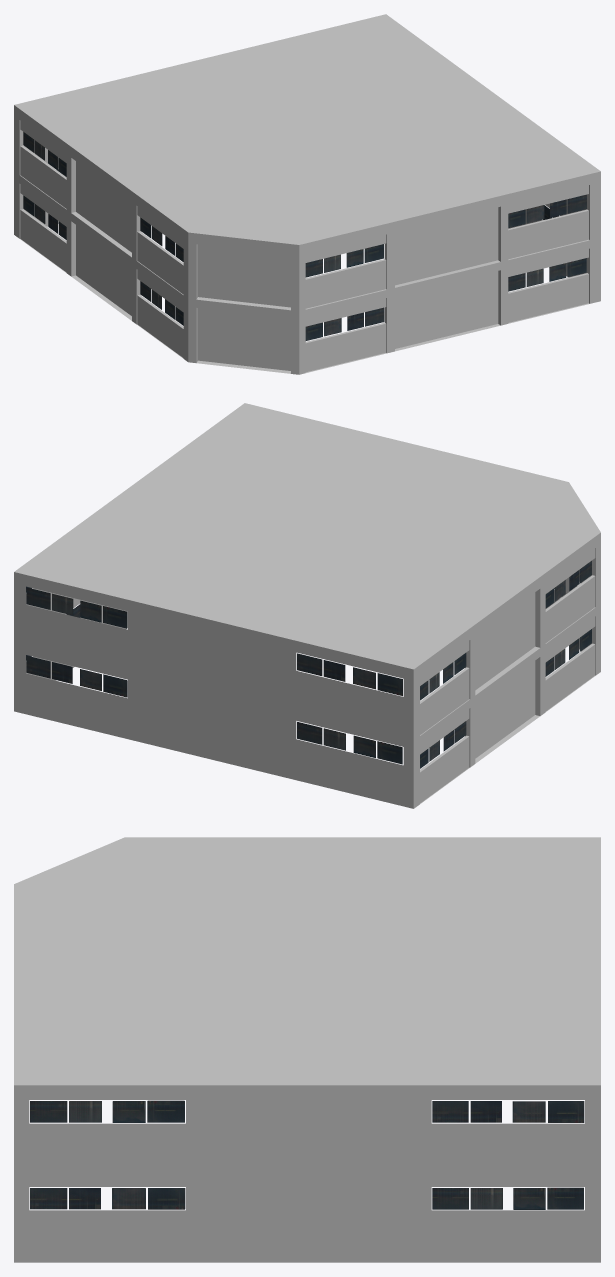
3 renders of one model, top to bottom at view 1: azimuth 30°, elevation 25°; view 2: azimuth 150°, elevation 25°; view 3: azimuth 270°, elevation 25°, orthographic. The views are drawn at different scales.
Parts seen in each view (by area): view 1: EB-019; view 2: EB-019; view 3: EB-019.
Part boxes in pixels (x1=…): EB-019: x1=14, y1=14, x2=600, y2=374; EB-019: x1=14, y1=403, x2=600, y2=808; EB-019: x1=14, y1=837, x2=600, y2=1262.
Size of what is drawn, in the model's own units: 36 by 12 by 36.
